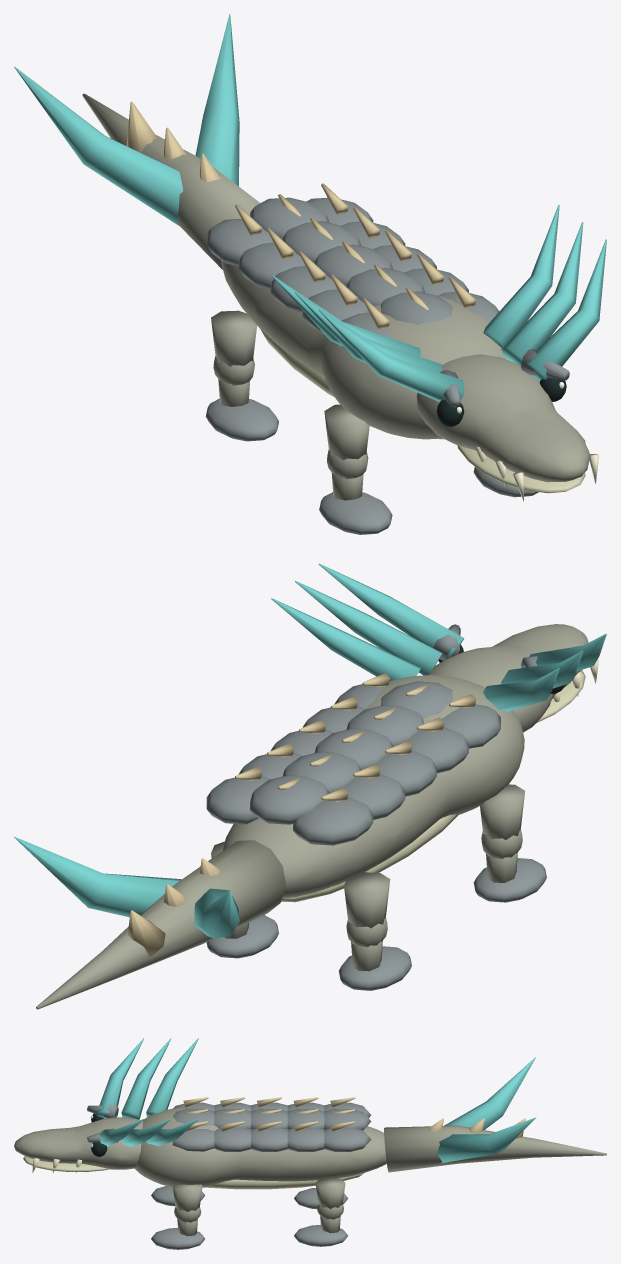
The model's file is tideblade.glb.
3 views of the same model, one above another, from view 1: azimuth 30°, elevation 25°; view 2: azimuth 150°, elevation 25°; view 3: azimuth 270°, elevation 25° (orthographic). The views are drawn at different scales.
Visible parts, largest first — view 1: tideblade_ReefjawTorso, tideblade_ReefjawLongHead, ScytheTail, tideblade_SwimmingTail, ScytheTail.001, GillBlade.004, GillBlade.005, GillBlade, GillBlade.003, tideblade_SpeciesFoot.003, tideblade_SpeciesFoot.001, tideblade_UpperLeg (+23 smaller); view 2: tideblade_ReefjawTorso, tideblade_SwimmingTail, tideblade_ReefjawLongHead, ScytheTail.001, GillBlade.004, GillBlade.005, tideblade_ReefScale, tideblade_ReefScale.014, GillBlade.003, tideblade_UpperLeg, tideblade_SpeciesFoot.003, tideblade_ReefScale.010 (+26 smaller); view 3: tideblade_ReefjawTorso, tideblade_SwimmingTail, tideblade_ReefjawLongHead, ScytheTail.001, ScytheTail, GillBlade.001, GillBlade.002, GillBlade, tideblade_ReefScale.010, tideblade_ReefjawUnderbelly, tideblade_ReefScale.006, tideblade_ReefScale.011 (+19 smaller).
Part boxes in pixels (x1=…): tideblade_ReefjawTorso: x1=221, y1=260, x2=505, y2=439; tideblade_ReefjawLongHead: x1=416, y1=354, x2=590, y2=482; ScytheTail: x1=14, y1=66, x2=183, y2=225; tideblade_SwimmingTail: x1=82, y1=93, x2=260, y2=269; ScytheTail.001: x1=195, y1=14, x2=239, y2=186; GillBlade.004: x1=501, y1=222, x2=583, y2=365; GillBlade.005: x1=483, y1=205, x2=559, y2=347; GillBlade: x1=318, y1=309, x2=464, y2=401; GillBlade.003: x1=526, y1=239, x2=606, y2=381; tideblade_SpeciesFoot.003: x1=205, y1=398, x2=278, y2=441; tideblade_SpeciesFoot.001: x1=319, y1=492, x2=392, y2=534; tideblade_UpperLeg: x1=211, y1=310, x2=256, y2=366; tideblade_ReefjawTorso: x1=222, y1=675, x2=524, y2=898; tideblade_SwimmingTail: x1=36, y1=840, x2=286, y2=1009; tideblade_ReefjawLongHead: x1=429, y1=624, x2=588, y2=732; ScytheTail.001: x1=14, y1=837, x2=181, y2=917; GillBlade.004: x1=295, y1=581, x2=442, y2=675; GillBlade.005: x1=271, y1=598, x2=420, y2=680; tideblade_ReefScale: x1=293, y1=797, x2=373, y2=845; tideblade_ReefScale.014: x1=250, y1=775, x2=329, y2=824; GillBlade.003: x1=318, y1=563, x2=464, y2=659; tideblade_UpperLeg: x1=344, y1=872, x2=390, y2=928; tideblade_SpeciesFoot.003: x1=338, y1=946, x2=411, y2=990; tideblade_ReefScale.010: x1=206, y1=776, x2=270, y2=824; tideblade_ReefjawTorso: x1=135, y1=1107, x2=386, y2=1187; tideblade_SwimmingTail: x1=384, y1=1125, x2=606, y2=1172; tideblade_ReefjawLongHead: x1=14, y1=1117, x2=142, y2=1169; ScytheTail.001: x1=436, y1=1117, x2=536, y2=1163; ScytheTail: x1=444, y1=1057, x2=535, y2=1129; GillBlade.001: x1=121, y1=1038, x2=171, y2=1119; GillBlade.002: x1=146, y1=1038, x2=198, y2=1117; GillBlade: x1=96, y1=1038, x2=144, y2=1118; tideblade_ReefScale.010: x1=324, y1=1127, x2=370, y2=1151; tideblade_ReefjawUnderbelly: x1=204, y1=1173, x2=363, y2=1189; tideblade_ReefScale.006: x1=287, y1=1127, x2=324, y2=1151; tideblade_ReefScale.011: x1=251, y1=1127, x2=287, y2=1151.
Size of the model in its own units: 1.6 by 1.35 by 4.97.
